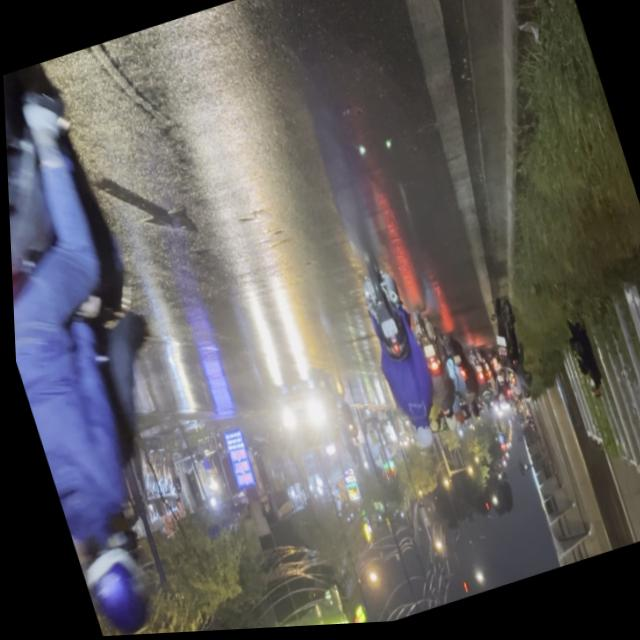helmet: (65, 516, 156, 638), (407, 422, 431, 455)
licenseplate: (2, 49, 234, 640), (338, 249, 449, 462)
nohelmet: (376, 321, 396, 343)
